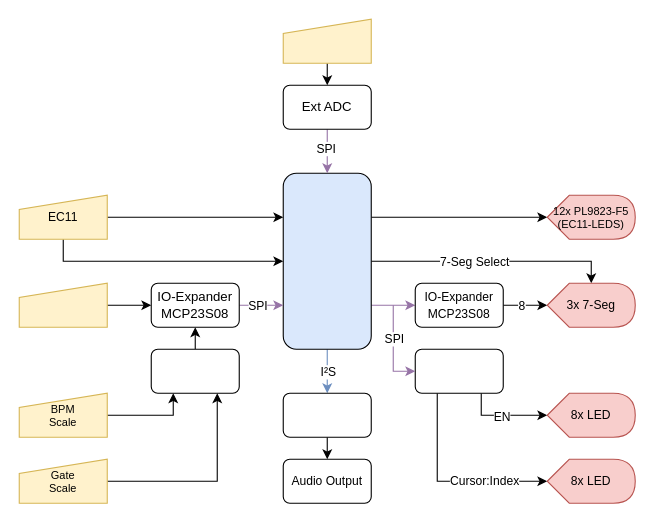
Image size: 655x523. Some labels were removed from this diagram. Each missing label, with the centre of its shape:
16bit SR (EN/C:I): (458,370)
2xprioEncoder: (194,370)
8x Pot: (326,40)
ESP-32: (326,260)
I²S DAC PCM5102: (326,414)
SW Inputs: (62,304)
